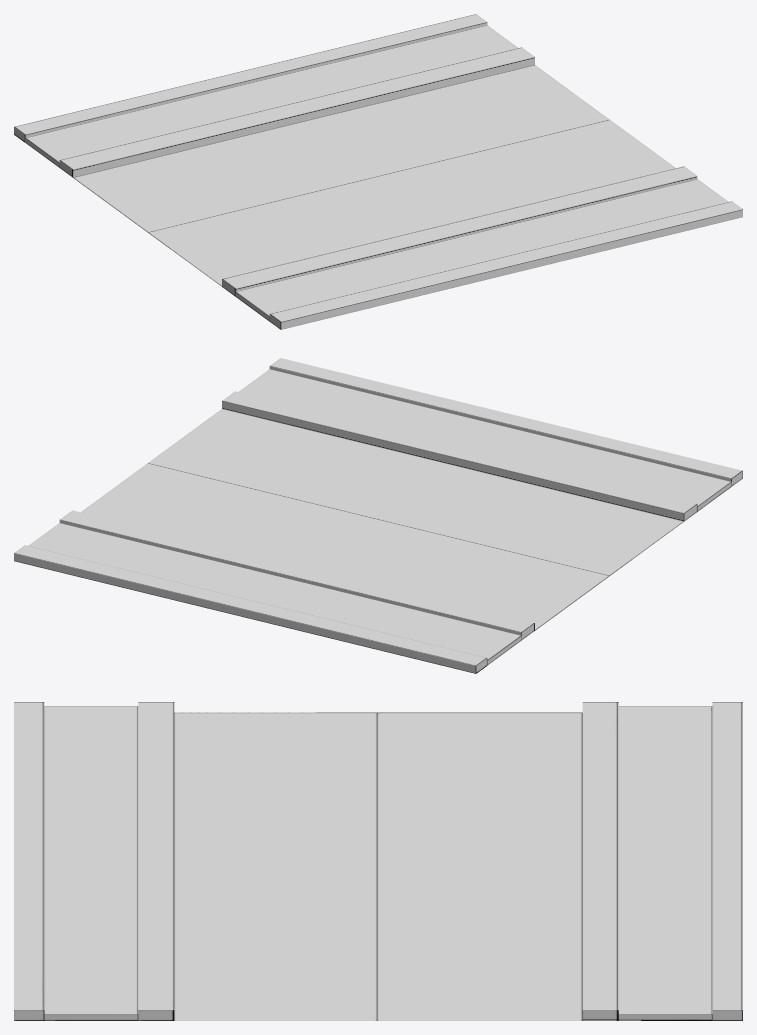
The model's file is road.dae.
The picture shows the model from 3 angles, top to bottom: view 1: azimuth 30°, elevation 25°; view 2: azimuth 150°, elevation 25°; view 3: azimuth 270°, elevation 25°; orthographic projection. The views are drawn at different scales.
Parts seen in each view (by area): view 1: Plane; view 2: Plane; view 3: Plane.
Boxes of the visible parts, box(x1,y1,x2,y2) form: Plane: box(14, 14, 742, 329); Plane: box(14, 358, 742, 673); Plane: box(14, 702, 742, 1020).
Size of the model in its own units: 12 by 12 by 0.195.
